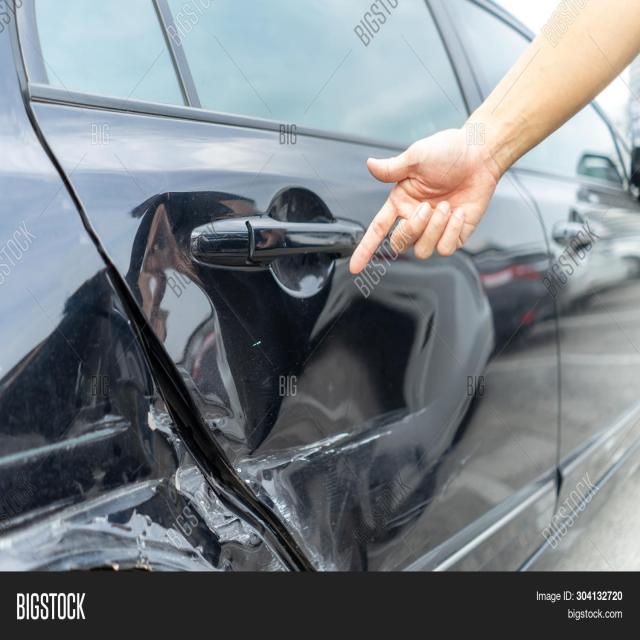crush: (0, 203, 493, 577)
